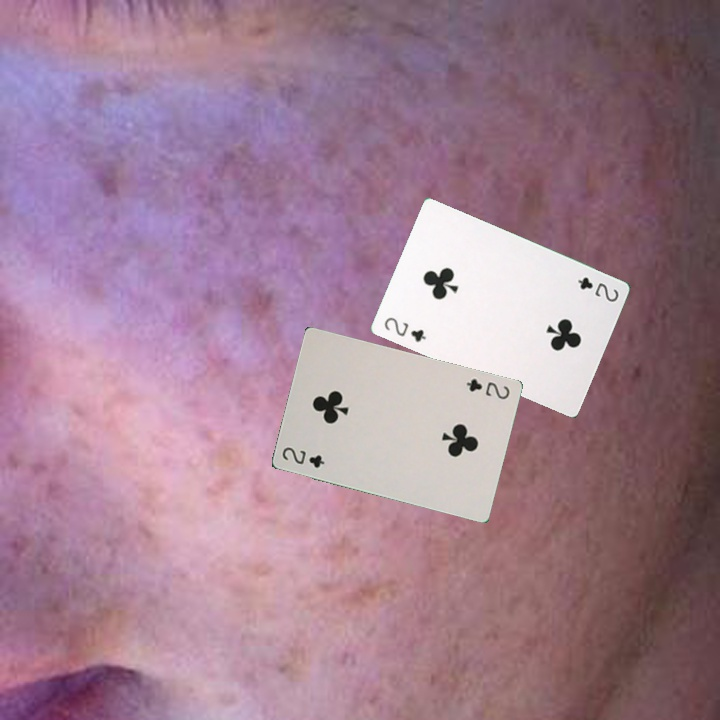2c: (380, 313, 429, 345), (573, 273, 621, 305), (462, 374, 512, 402), (278, 443, 327, 470)
